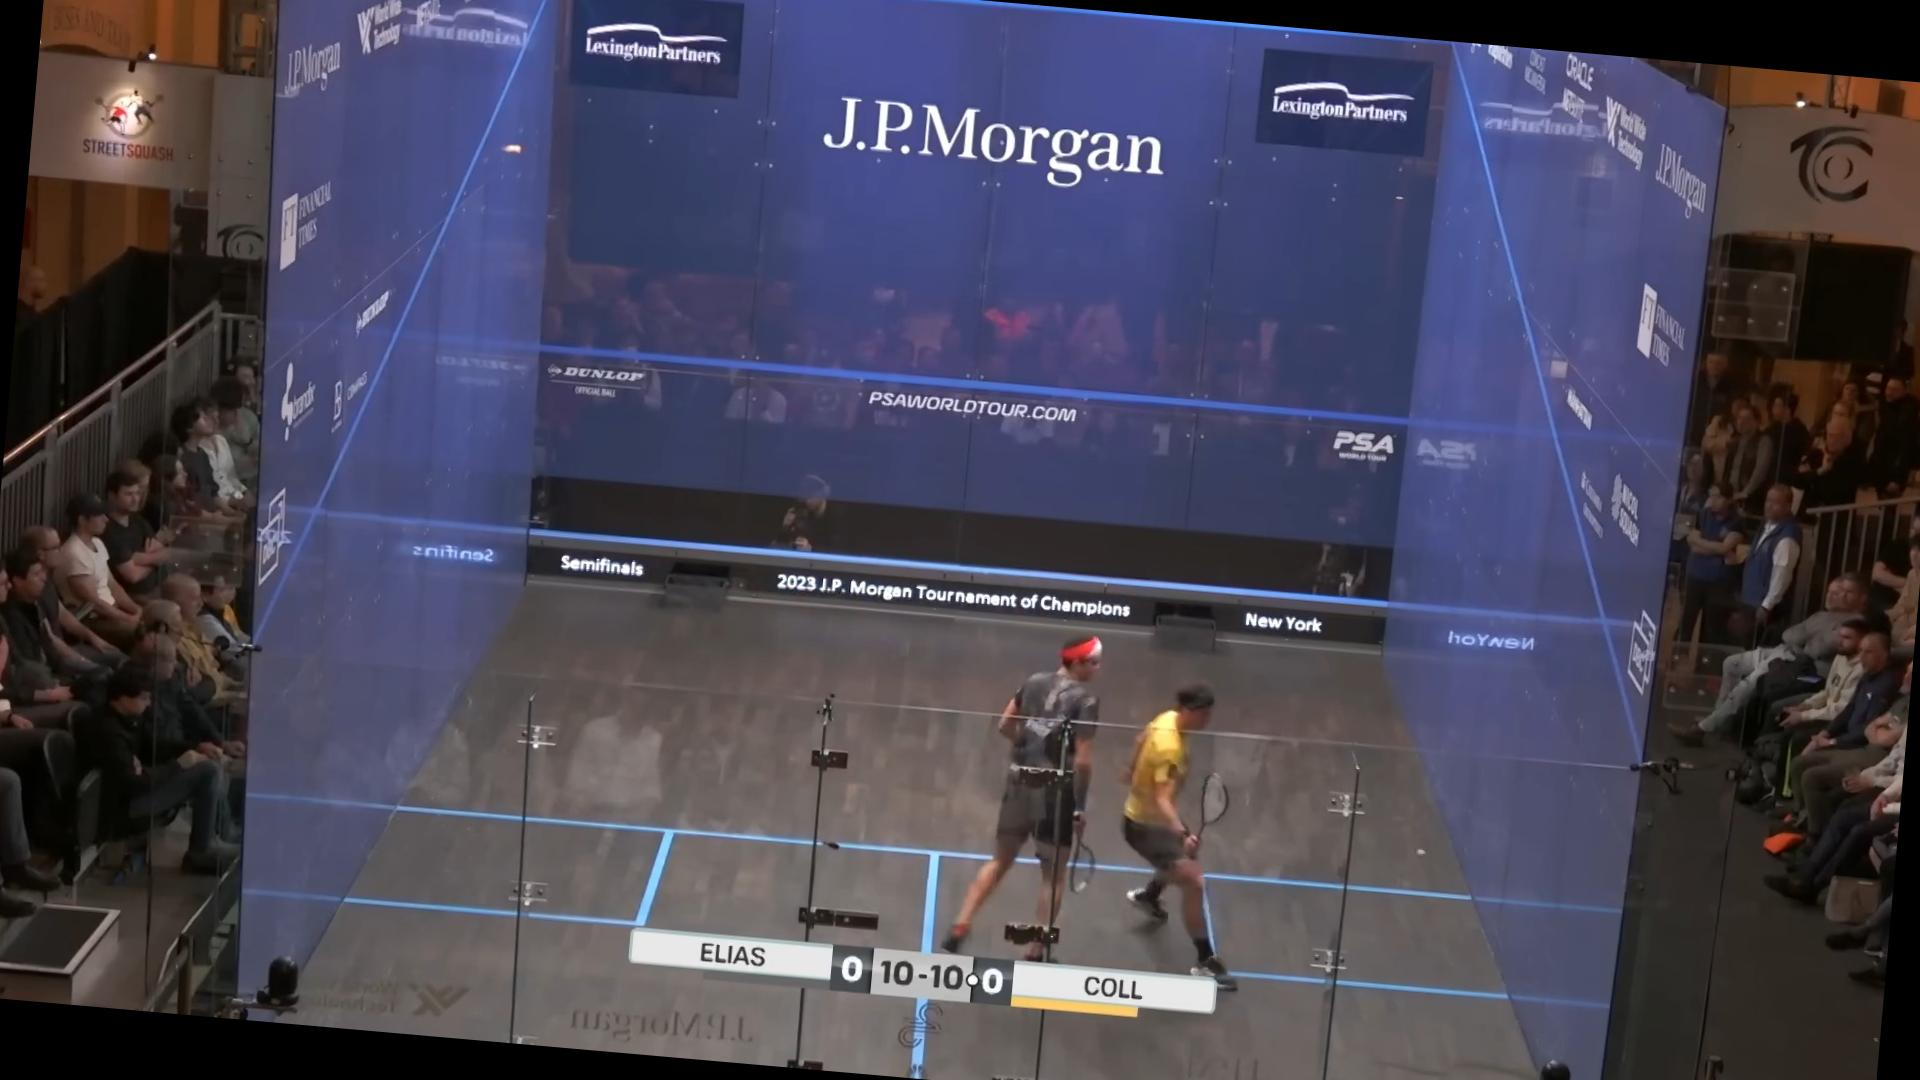Racket: (1188, 764, 1246, 849), (1062, 828, 1110, 907)
